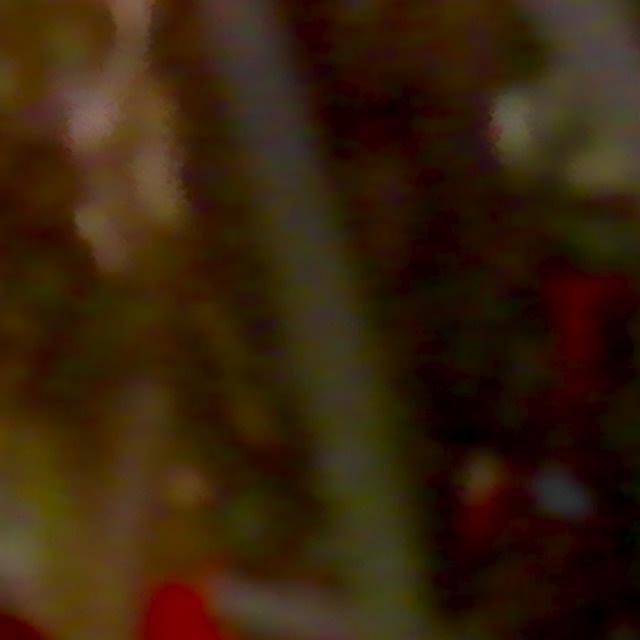SeaGrape: (28, 0, 114, 80)
